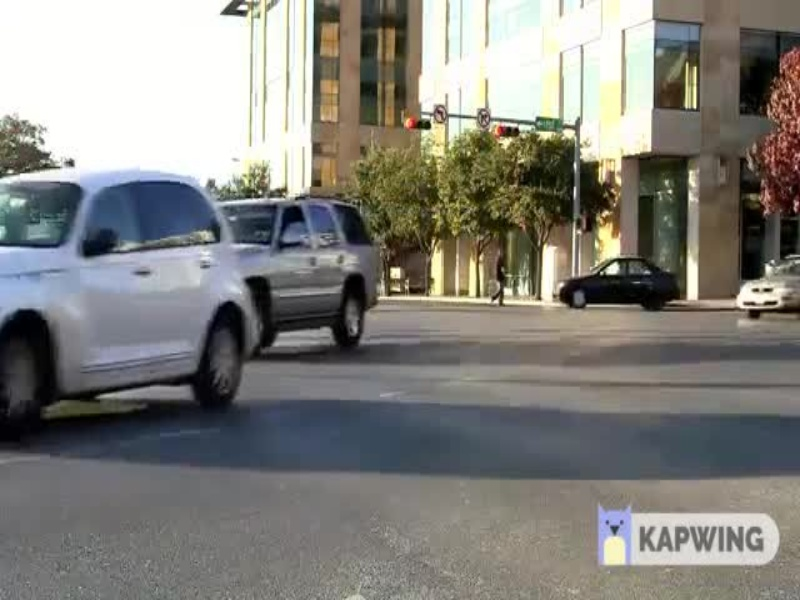car: (1, 155, 258, 447), (216, 189, 399, 357), (551, 245, 677, 330), (727, 257, 800, 329)
